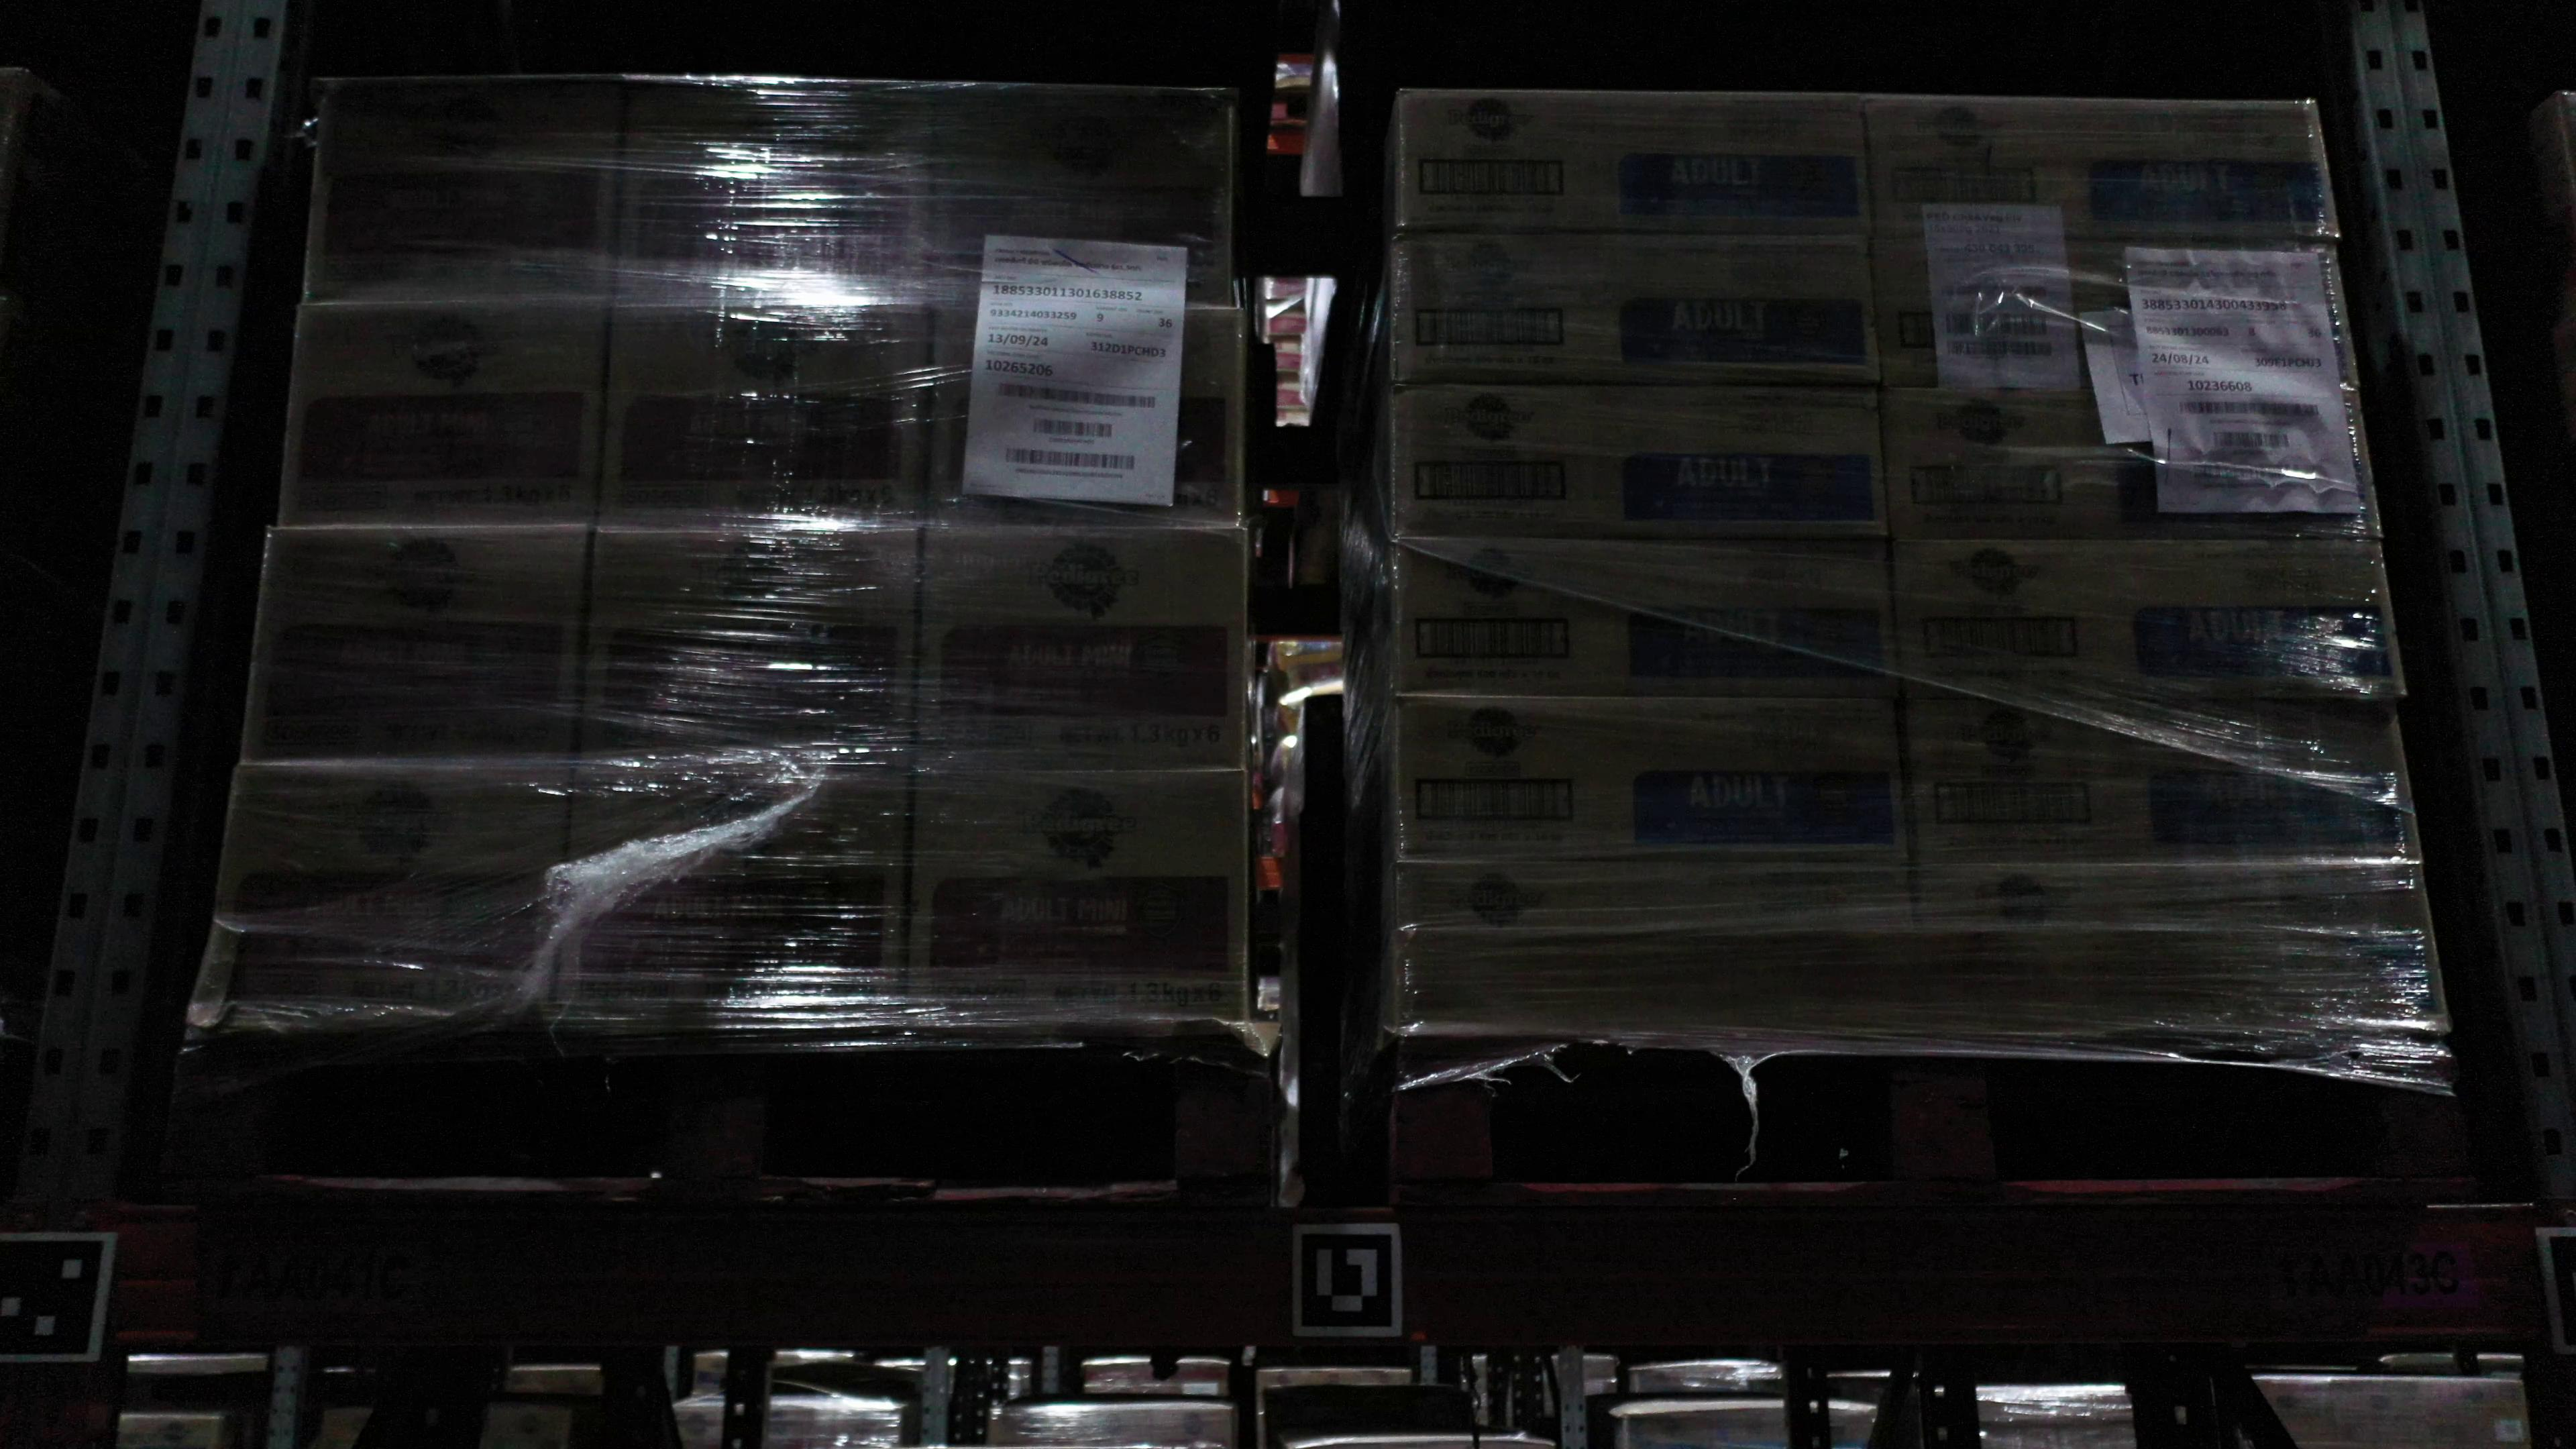-: (1398, 855, 1923, 1037), (550, 764, 913, 1026), (1396, 692, 1914, 872), (1921, 865, 2450, 1040), (1900, 701, 2422, 874), (1891, 533, 2406, 706), (218, 763, 577, 1010), (906, 764, 1247, 1023), (577, 525, 924, 770), (237, 525, 591, 764), (1391, 536, 1904, 701), (916, 527, 1247, 771), (1391, 384, 1895, 540), (1389, 232, 1882, 389), (593, 304, 932, 533), (1881, 387, 2383, 541), (295, 76, 626, 304), (610, 78, 939, 306), (280, 303, 612, 527), (1872, 237, 2357, 391), (925, 304, 1244, 534), (1865, 92, 2344, 244), (929, 83, 1237, 311), (1396, 92, 1879, 235)
